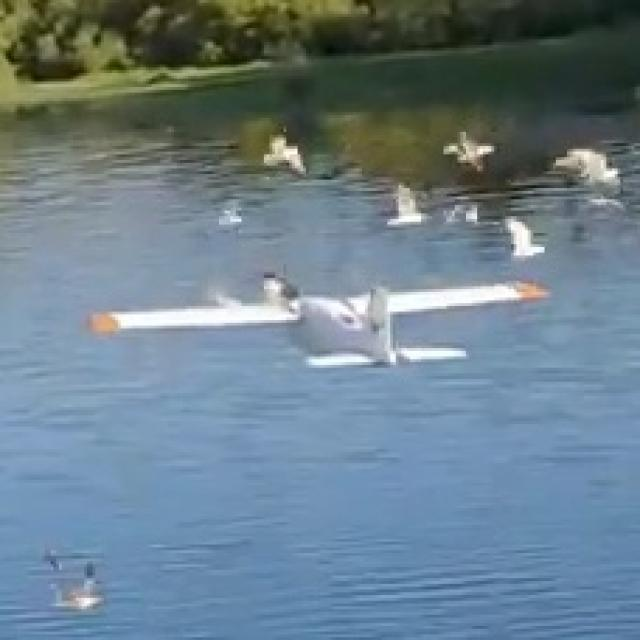iha: (84, 299, 556, 341)
